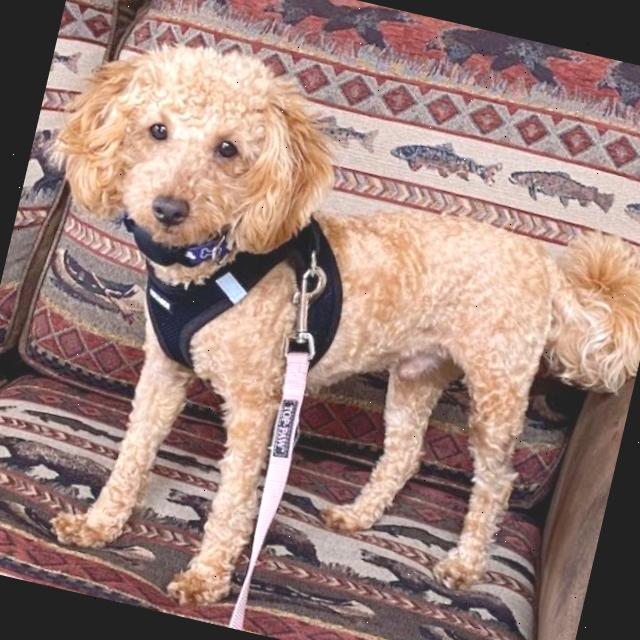Poodle_dog: (34, 10, 366, 293)
